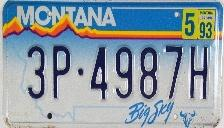3: (25, 43, 49, 101)
4: (89, 45, 111, 102)
5: (184, 10, 196, 38)
7: (163, 44, 185, 99)
8: (138, 45, 160, 100)
9: (113, 46, 135, 99)
H: (187, 44, 211, 99)
P: (50, 43, 73, 100)
